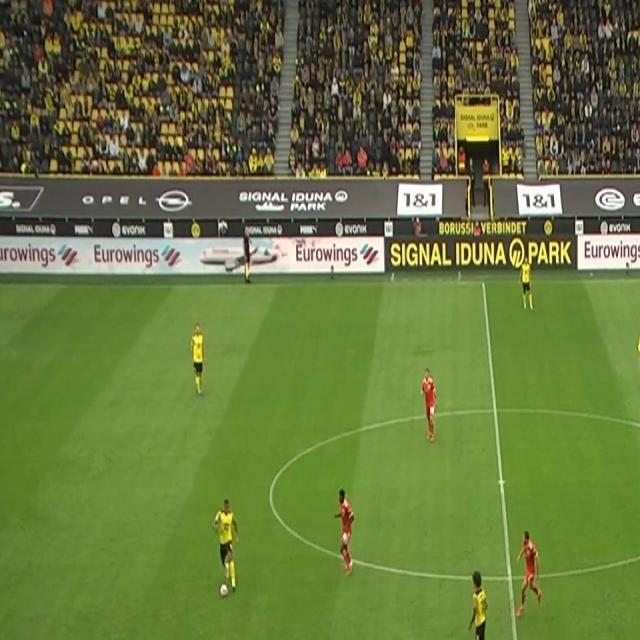ball: (219, 582, 229, 600)
